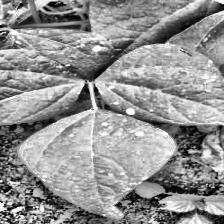Bean Rust: (19, 108, 176, 219), (95, 45, 224, 125), (0, 49, 85, 126), (0, 25, 119, 74)
